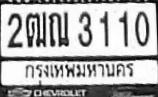0: (134, 10, 149, 45)
1: (118, 10, 127, 46), (99, 10, 108, 46)
2: (6, 12, 22, 47)
3: (77, 11, 92, 46)
A18: (25, 11, 45, 47)
A19: (48, 11, 68, 46)
BKK: (18, 60, 136, 82)
